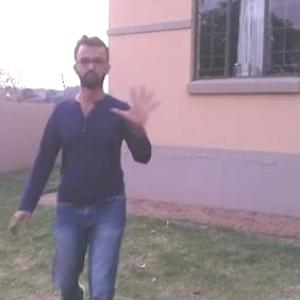follow_hand: (107, 81, 164, 126)
